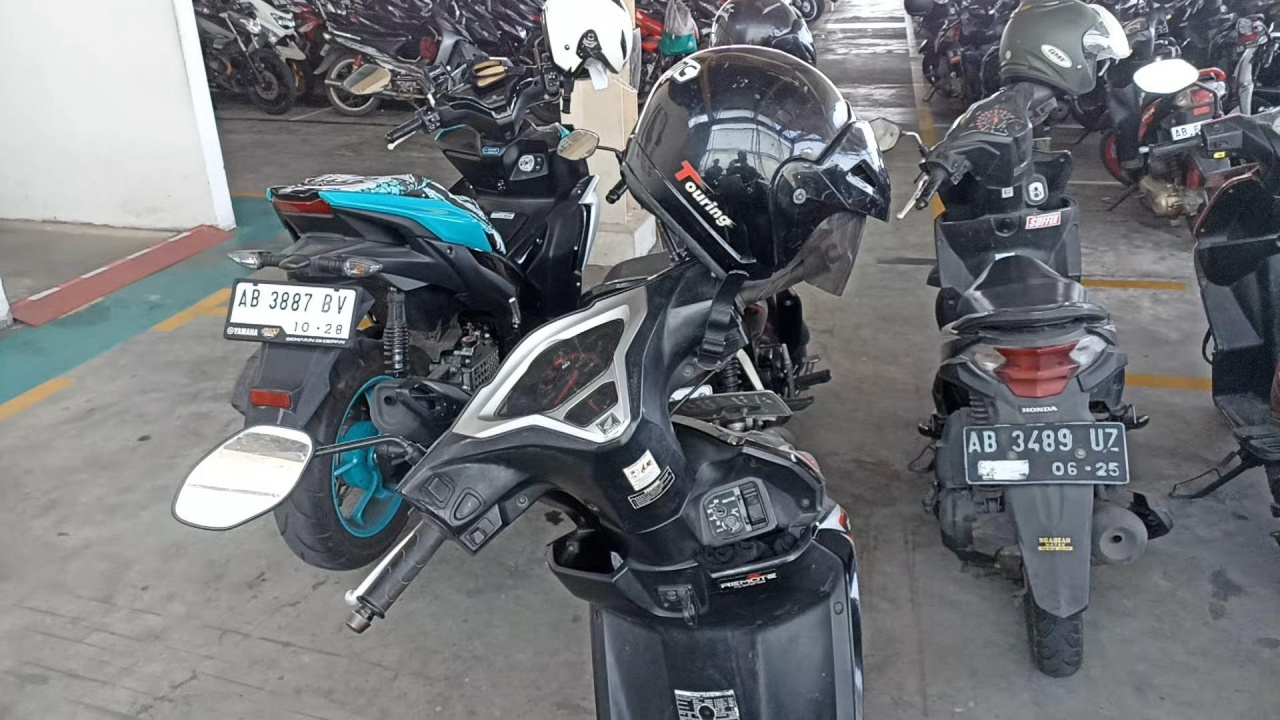plate: (963, 423, 1129, 484), (226, 281, 359, 344)
